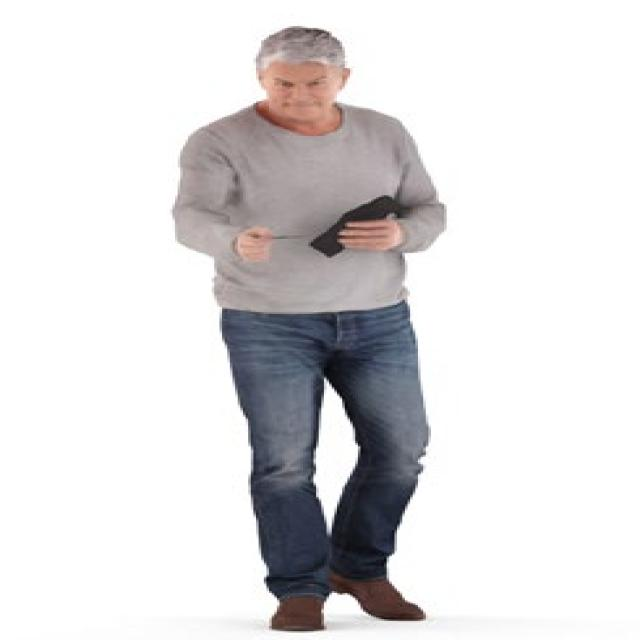standing: (169, 26, 467, 634)
